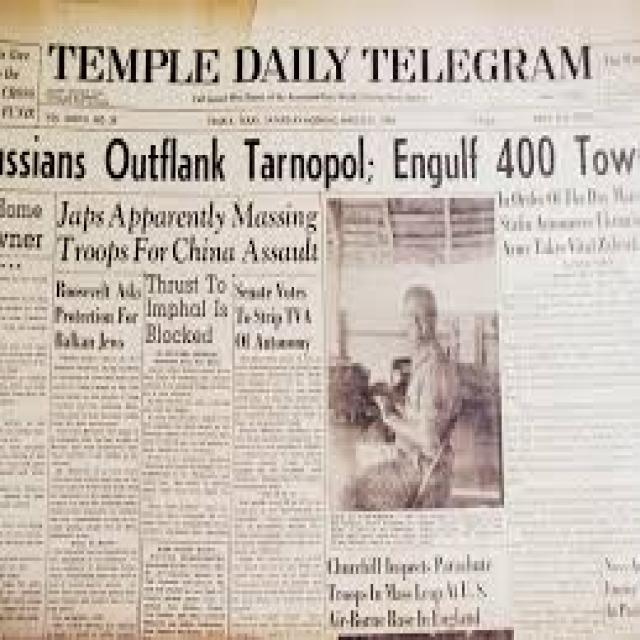paper: (3, 10, 638, 637)
